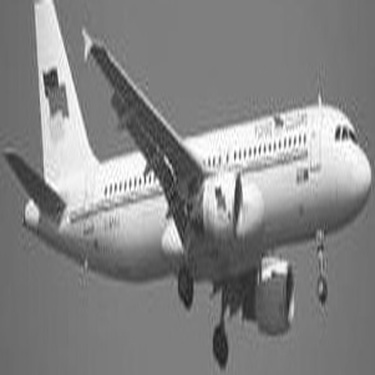airplane: (7, 3, 366, 371)
